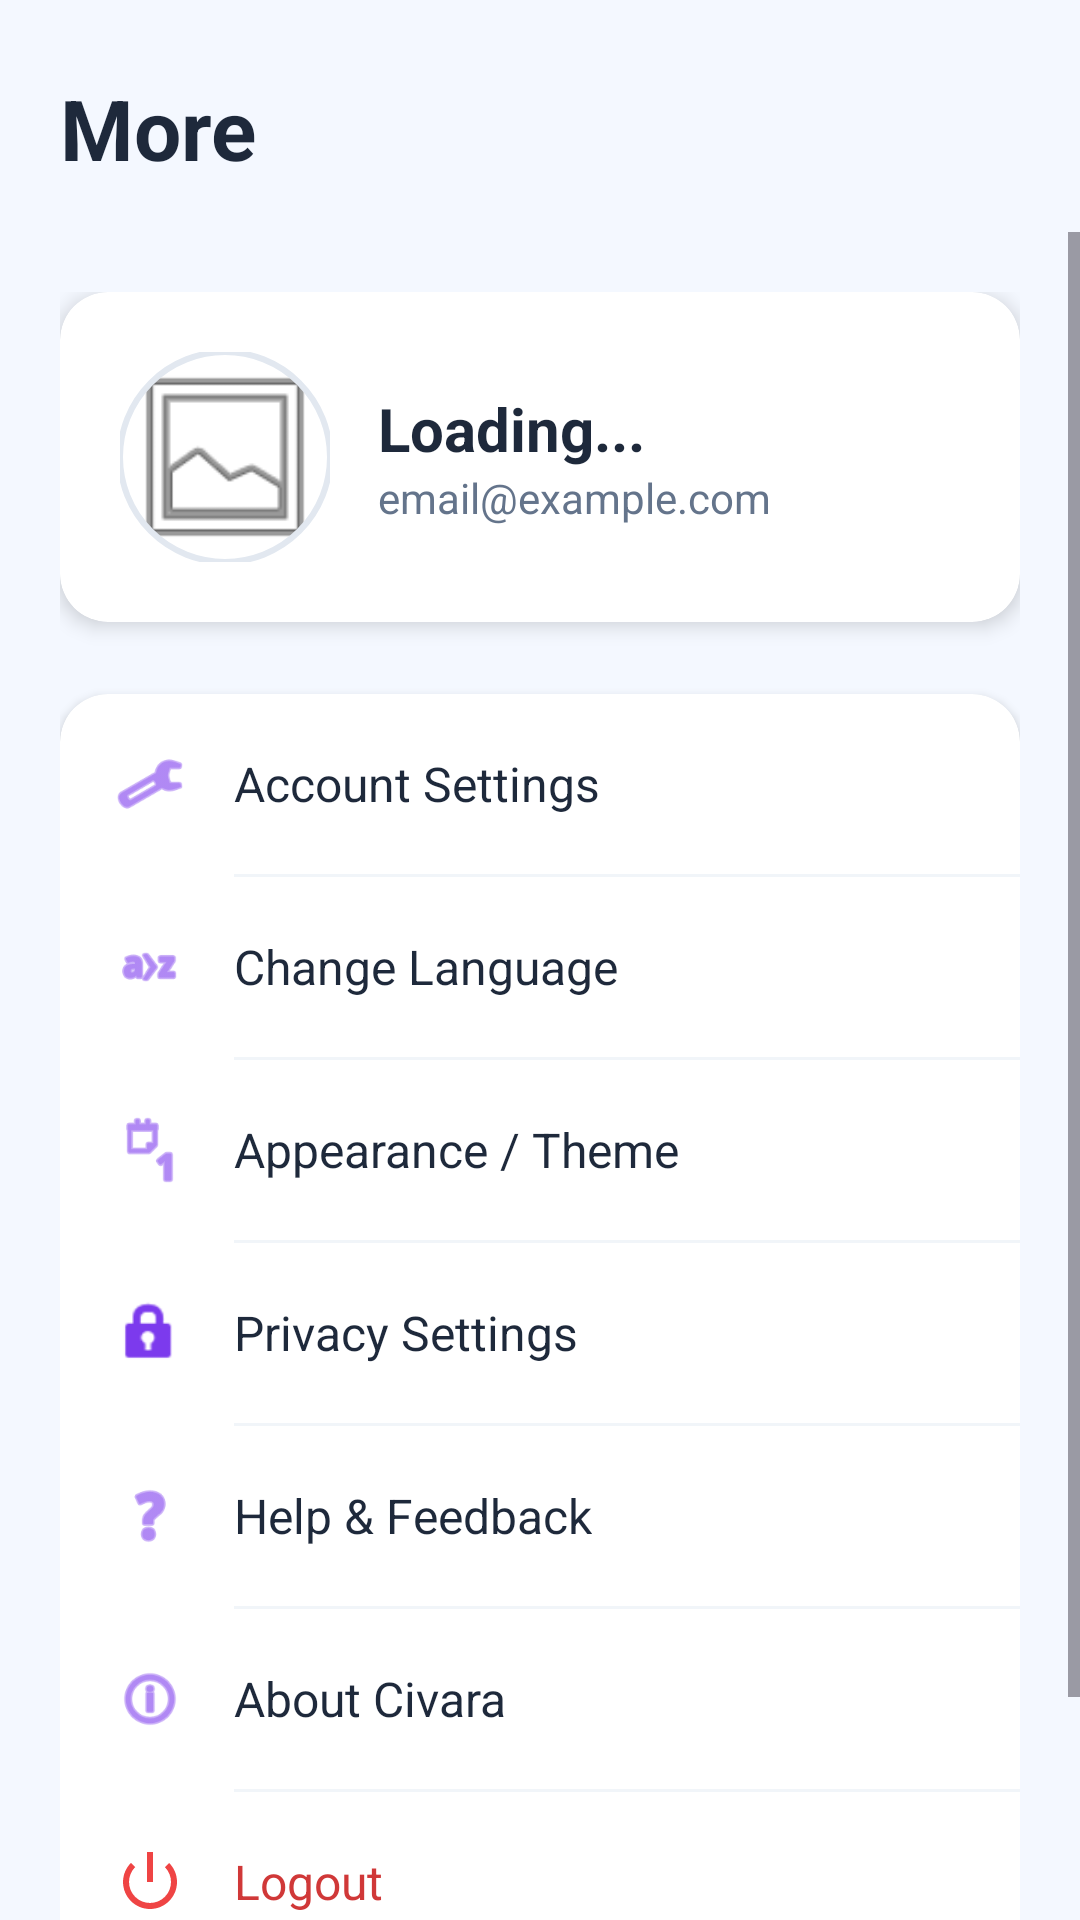

Icons on this 1080px×1920px Android screen, each with the point to tap as point (x, y):
day: point (149, 1150)
gallery: point (225, 457)
info details: point (150, 1699)
lock idle: point (148, 1330)
lock power off: point (150, 1880)
manage: point (150, 784)
sort alphabetically: point (149, 967)
